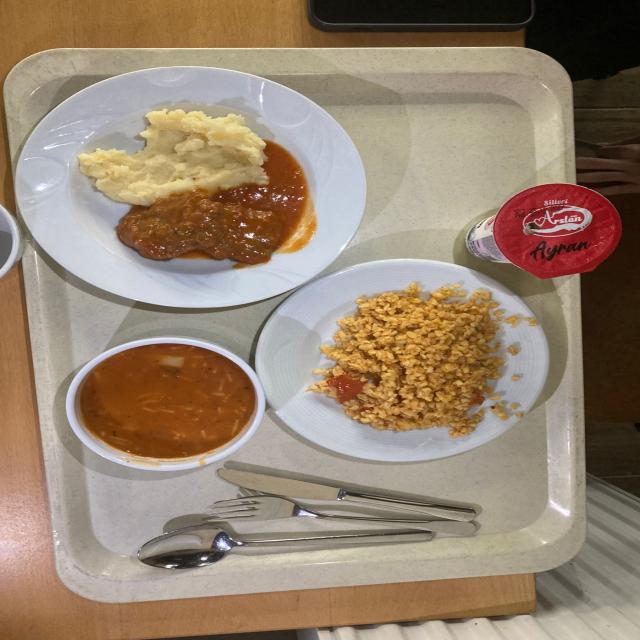ana_yemek: (11, 65, 360, 302), (253, 264, 540, 445)
corba: (63, 334, 264, 466)
